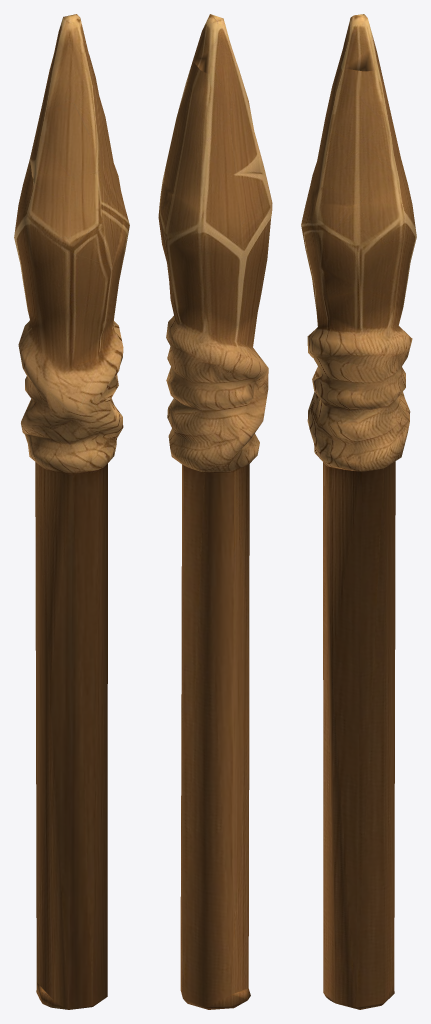
The model's file is spear.glb.
3 views of the same model, side by side, from view 1: azimuth 90°, elevation 25°; view 2: azimuth 210°, elevation 25°; view 3: azimuth 270°, elevation 25° (orthographic).
Bounding box in the file's own units: 0.2063 × 1.93 × 0.2061.
1 material, 1 textured.
